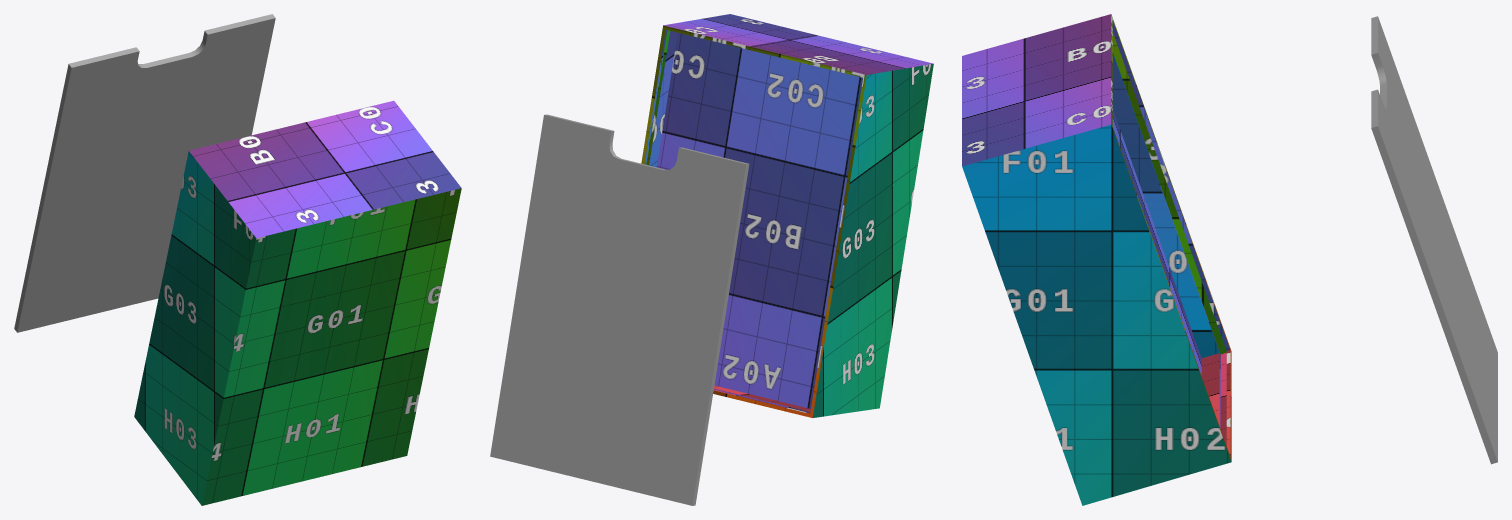
The model's file is SR_DigicodeBow_low.fbx.
3 renders of one model, left to right at view 1: azimuth 30°, elevation 25°; view 2: azimuth 150°, elevation 25°; view 3: azimuth 270°, elevation 25°, orthographic. The views are drawn at different scales.
Parts seen in each view (by area): view 1: DBox_low, DPanel_low; view 2: DBox_low, DPanel_low; view 3: DBox_low, DPanel_low.
Boxes of the visible parts, bbox=[...] form: DBox_low: bbox=[134, 100, 461, 505]; DPanel_low: bbox=[14, 14, 275, 332]; DBox_low: bbox=[641, 14, 933, 417]; DPanel_low: bbox=[490, 114, 749, 505]; DBox_low: bbox=[962, 14, 1231, 505]; DPanel_low: bbox=[1371, 16, 1497, 464].
Bounding box in the file's own units: 64.93 × 104 × 133.
